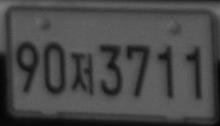0: (42, 41, 66, 94)
1: (153, 44, 179, 99), (183, 45, 209, 99)
3: (98, 44, 123, 96)
7: (126, 44, 151, 97)
9: (15, 40, 39, 92)
저: (71, 52, 94, 96)
